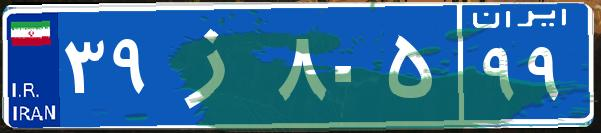0: (330, 28, 385, 110)
3: (57, 26, 110, 107)
5: (385, 28, 445, 110)
8: (273, 28, 330, 110)
9: (475, 38, 525, 113), (110, 28, 158, 105), (525, 38, 570, 115)
ز: (158, 15, 273, 115)
